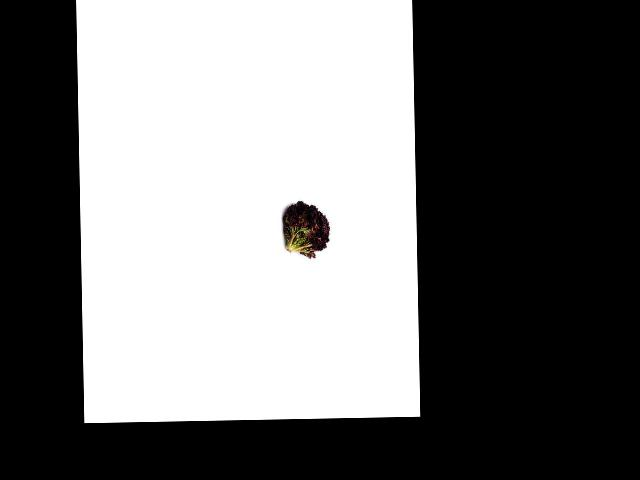lettuce: (279, 198, 332, 255)
